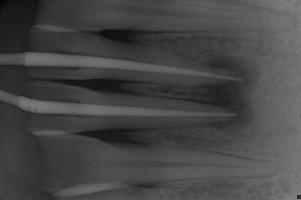Furcation Involvement: (205, 55, 258, 128)
